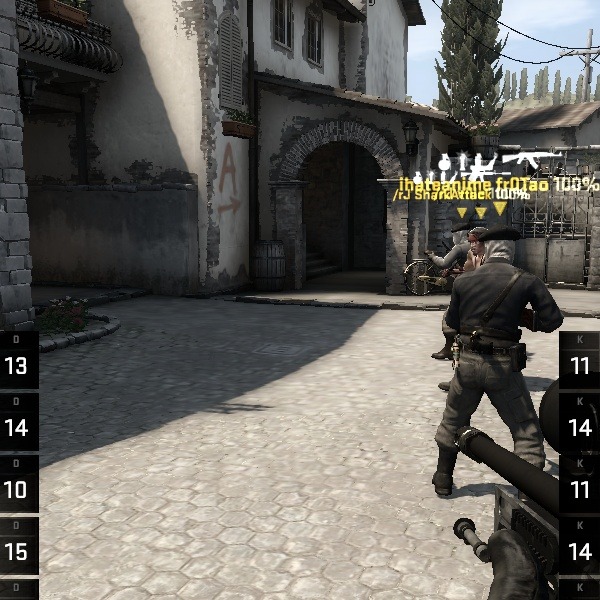t_body: (410, 223, 574, 521)
t_head: (441, 223, 501, 276)
